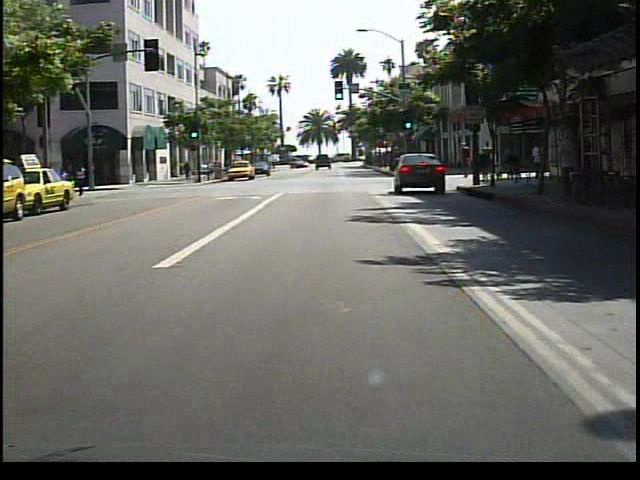person: (74, 161, 96, 202), (456, 140, 473, 183)
